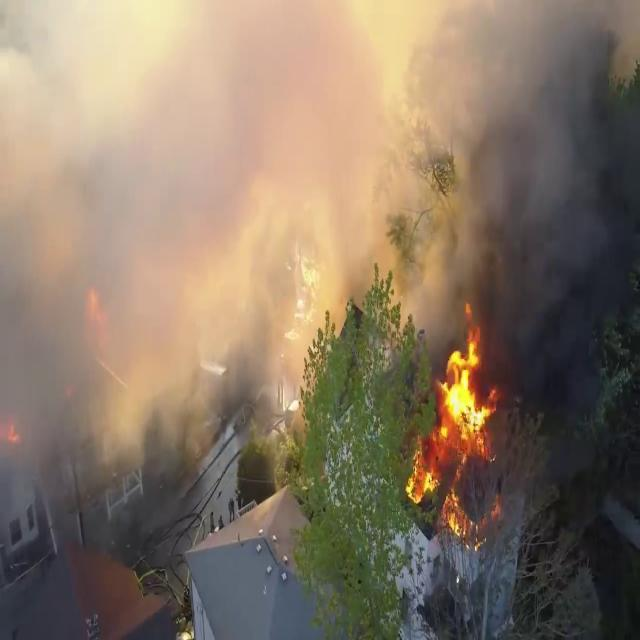Fire: (404, 319, 504, 533)
Smoke: (0, 1, 334, 500), (372, 1, 640, 357)
